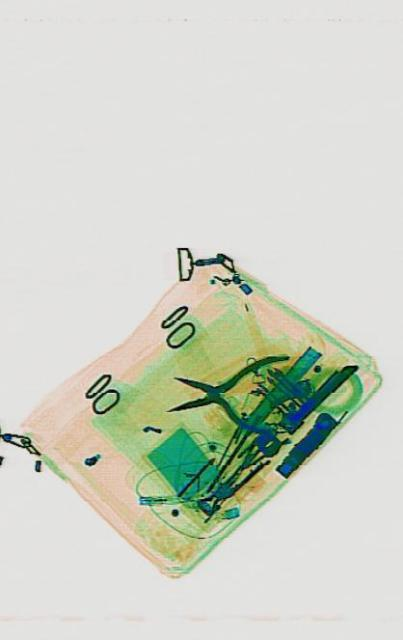Pliers: (163, 351, 288, 434)
